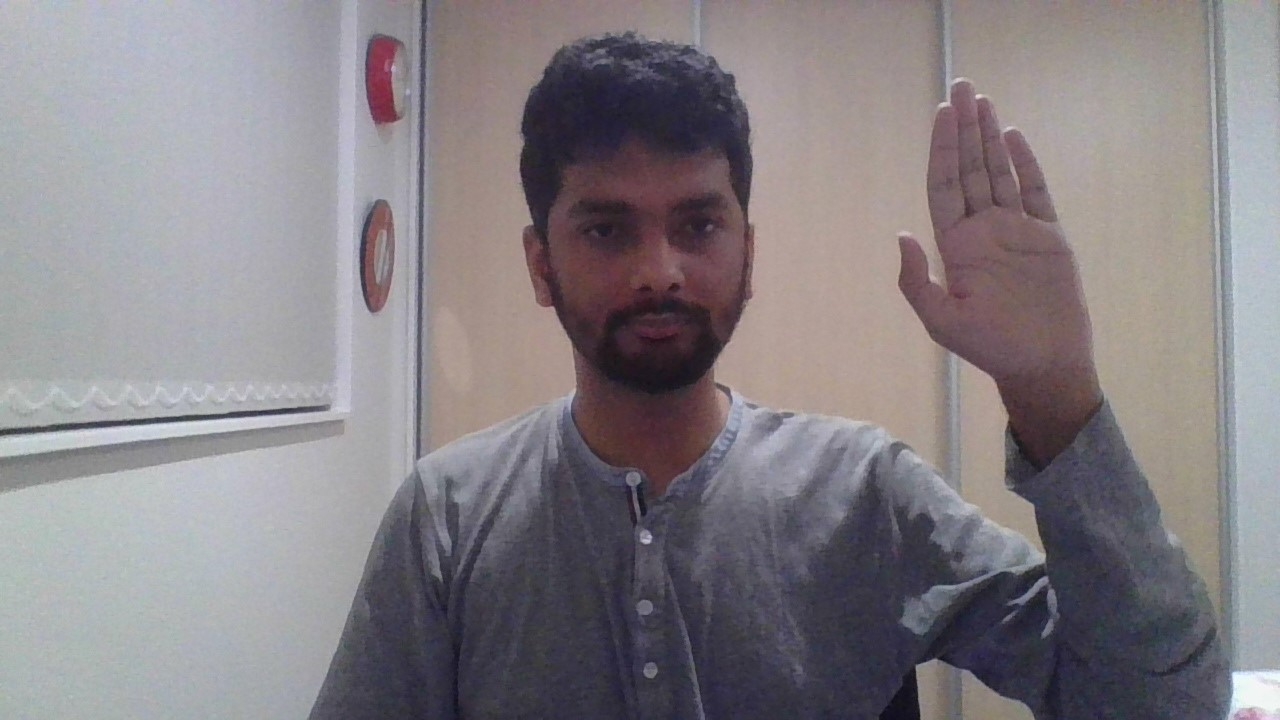hello: (896, 77, 1094, 370)
